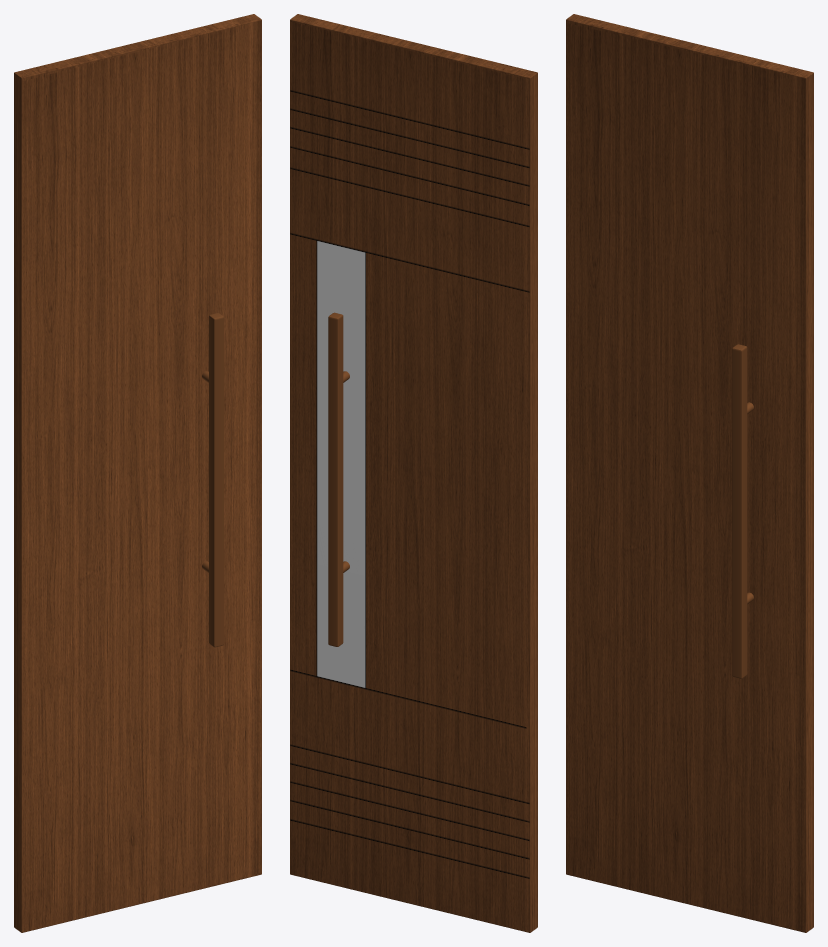
The model's file is VE_6_half_door.glb.
The picture shows the model from 3 angles, left to right: view 1: azimuth 30°, elevation 25°; view 2: azimuth 150°, elevation 25°; view 3: azimuth 330°, elevation 25°; orthographic projection.
Parts seen in each view (by area): view 1: V_E_6__half_door; view 2: V_E_6__half_door; view 3: V_E_6__half_door.
Part boxes in pixels (x1=…): V_E_6__half_door: x1=14, y1=14, x2=261, y2=932; V_E_6__half_door: x1=290, y1=14, x2=537, y2=932; V_E_6__half_door: x1=566, y1=14, x2=813, y2=932.
Bounding box in the file's own units: 0.5169 × 1.76 × 0.1284.
Materials: 1 (1 with a texture image).
